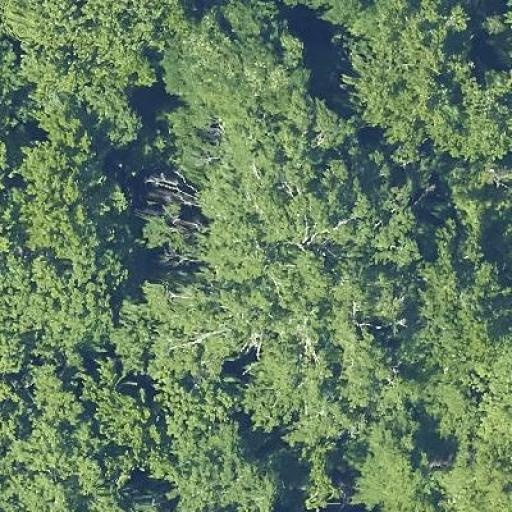tree-top: (202, 95, 374, 249), (12, 2, 172, 146), (240, 308, 398, 444), (340, 0, 471, 137), (162, 6, 309, 123), (119, 274, 248, 382), (0, 377, 103, 510), (417, 232, 505, 380), (5, 240, 119, 352), (159, 393, 266, 511), (16, 130, 116, 253), (350, 424, 433, 512), (455, 52, 512, 165), (428, 437, 512, 512), (91, 372, 162, 460), (373, 178, 440, 264), (446, 156, 512, 231), (418, 373, 480, 445), (140, 199, 198, 265), (8, 2, 84, 50), (293, 445, 346, 512), (476, 382, 512, 447), (479, 5, 512, 39)
